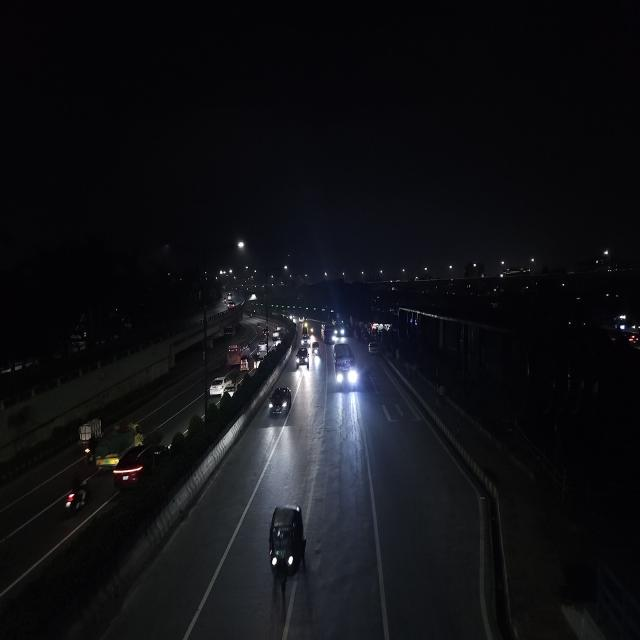bus: (331, 340, 358, 393), (322, 320, 336, 344), (226, 343, 242, 364), (332, 318, 344, 338)
car: (111, 441, 171, 487), (267, 383, 293, 418), (206, 370, 234, 399), (220, 367, 244, 400), (296, 345, 311, 370), (366, 339, 378, 356), (258, 340, 266, 353), (301, 337, 311, 347), (273, 330, 279, 339), (276, 323, 282, 332)
cng: (264, 499, 310, 602), (240, 358, 250, 372), (312, 341, 320, 357)
motorcycle: (61, 474, 91, 517), (257, 322, 260, 330)
pickup_van: (96, 420, 144, 466)
rickshaw: (76, 414, 104, 454)
